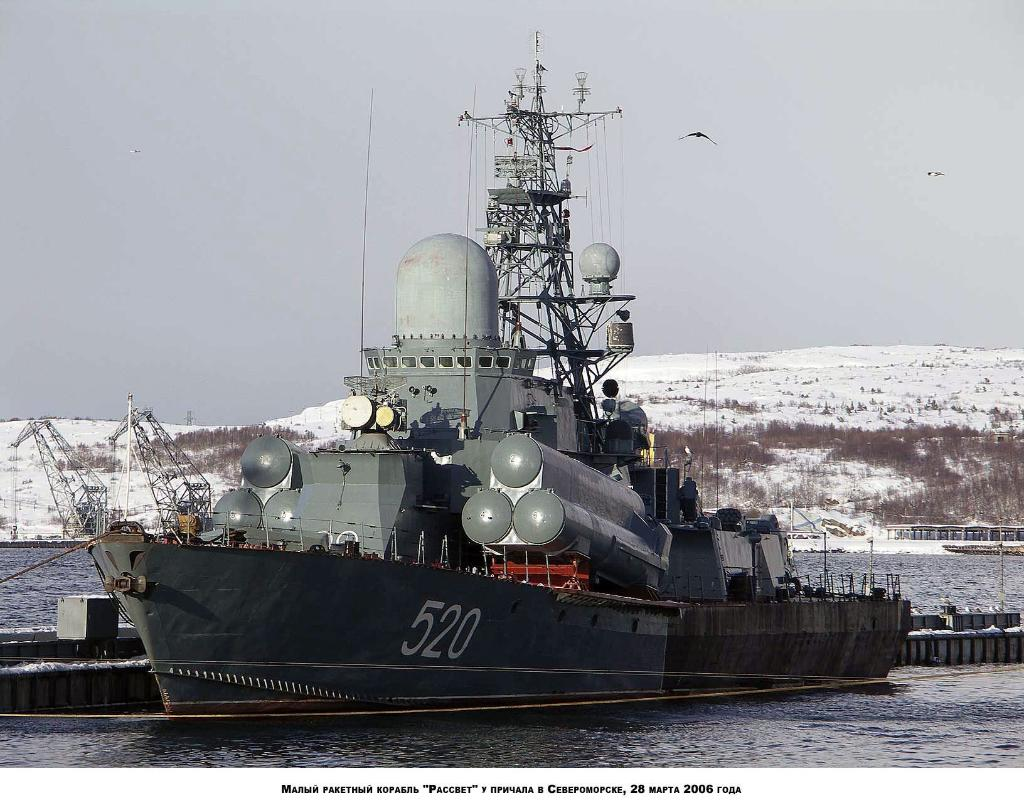Warship: (77, 112, 933, 726)
